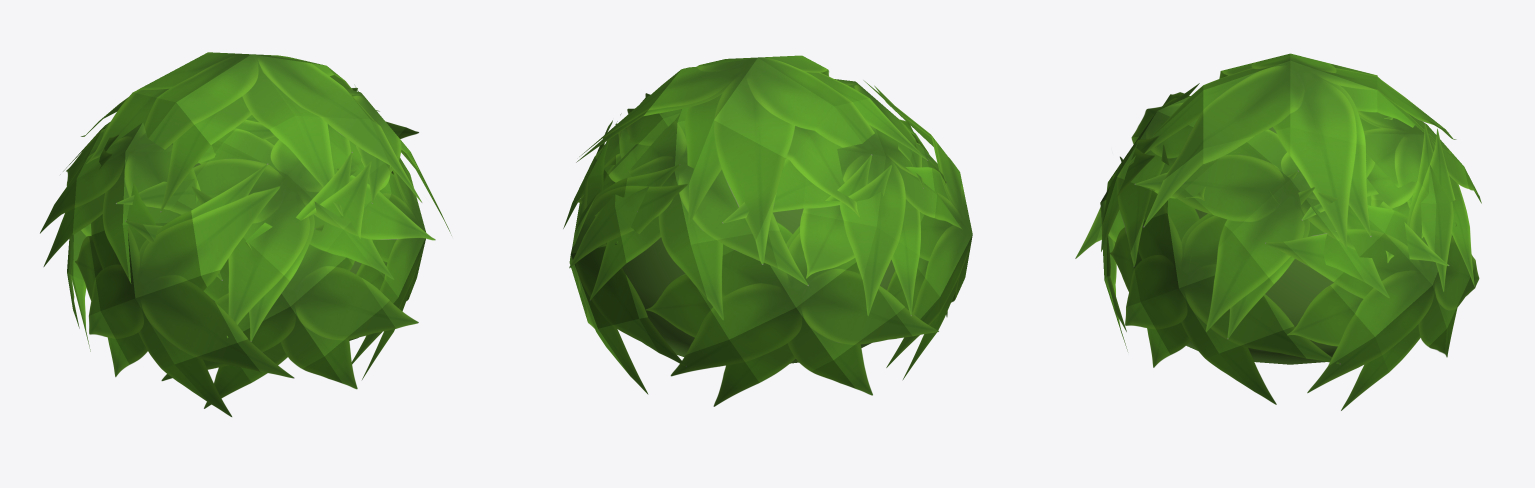
File: Arbusto.gltf
3 renders of one model, left to right at view 1: azimuth 30°, elevation 25°; view 2: azimuth 150°, elevation 25°; view 3: azimuth 270°, elevation 25°, orthographic.
Visible parts, largest first — view 1: Folhas arbusto; view 2: Folhas arbusto, Esfera icosaédrica; view 3: Folhas arbusto, Esfera icosaédrica.
Part boxes in pixels (box(x1,y1,x2,y2)): Folhas arbusto: box(40, 52, 451, 416); Folhas arbusto: box(563, 55, 972, 406); Esfera icosaédrica: box(622, 208, 895, 363); Folhas arbusto: box(1075, 53, 1481, 410); Esfera icosaédrica: box(1186, 127, 1337, 364).
Size of the model in its own units: 3.15 by 2.7 by 3.25.
Materials: 2 (1 with a texture image).
